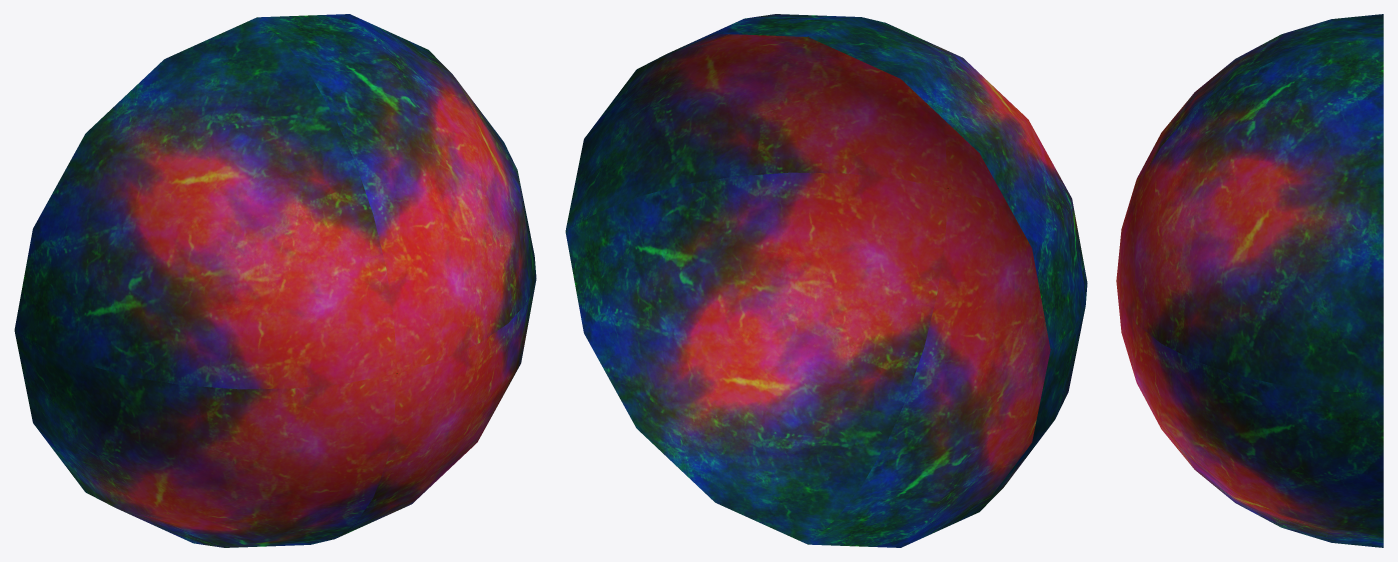
File: Projectileshield2.fbx
3 renders of one model, left to right at view 1: azimuth 30°, elevation 25°; view 2: azimuth 150°, elevation 25°; view 3: azimuth 270°, elevation 25°, orthographic. The views are drawn at different scales.
Parts seen in each view (by area): view 1: pSphere5; view 2: pSphere5; view 3: pSphere5.
Boxes of the visible parts, bbox=[...] form: pSphere5: bbox=[14, 14, 536, 547]; pSphere5: bbox=[565, 14, 1087, 547]; pSphere5: bbox=[1116, 14, 1383, 547].
Size of the model in its own units: 41.82 by 41.82 by 20.91.
Materials: 1 (1 with a texture image).
